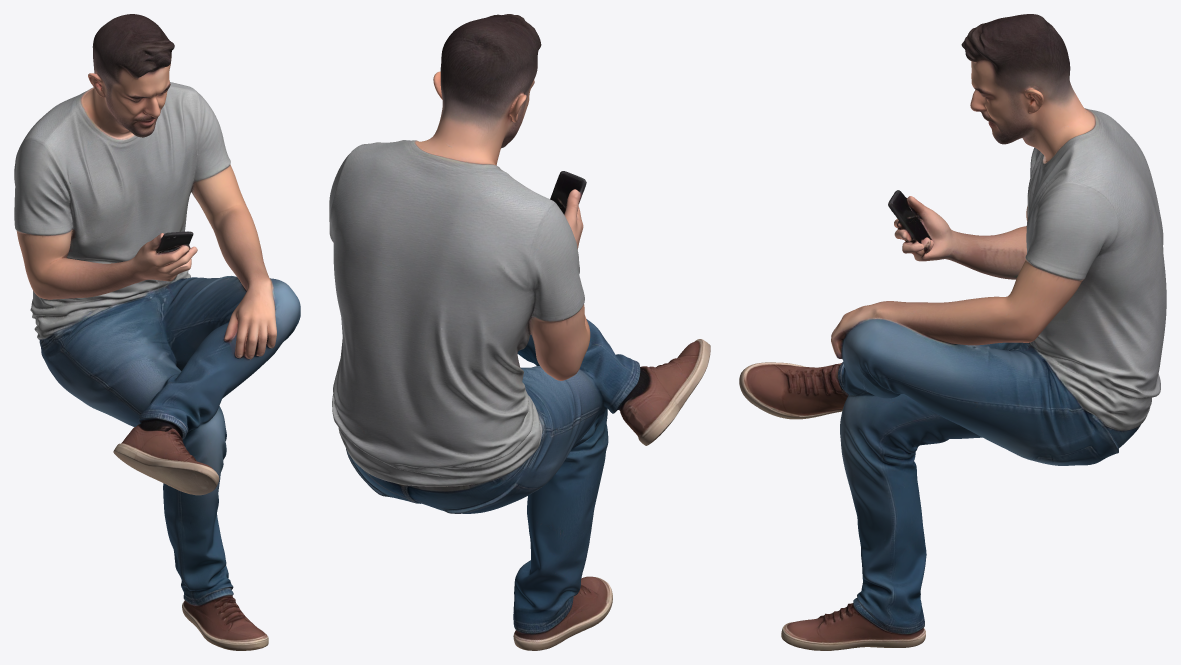
File: focused_on_the_phone.glb
3 views of the same model, side by side, from view 1: azimuth 30°, elevation 25°; view 2: azimuth 150°, elevation 25°; view 3: azimuth 270°, elevation 25° (orthographic). The views are drawn at different scales.
Visible parts, largest first — view 1: Object_5, Object_6, Object_7; view 2: Object_6, Object_5, Object_7; view 3: Object_6, Object_5, Object_7.
Part boxes in pixels (x1,y1,x2,y2): Object_5: (17, 14, 300, 650); Object_6: (14, 35, 259, 426); Object_7: (113, 47, 300, 628); Object_6: (329, 14, 590, 513); Object_5: (329, 16, 710, 648); Object_7: (513, 171, 676, 650); Object_6: (904, 21, 1166, 465); Object_5: (739, 14, 1106, 650); Object_7: (839, 31, 977, 647).
Bounding box in the file's own units: 0.7421 × 1.9 × 1.2.
1 material, 1 textured.
